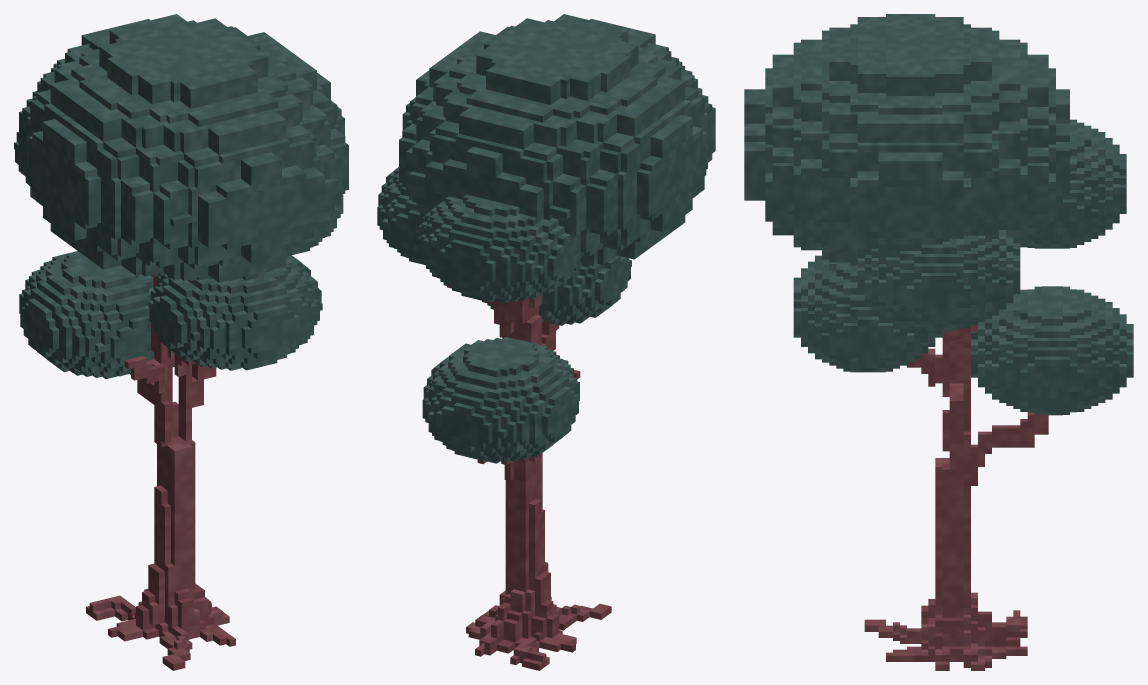
Rendered from Tree_state_1.fbx.
3 views of the same model, side by side, from view 1: azimuth 30°, elevation 25°; view 2: azimuth 150°, elevation 25°; view 3: azimuth 270°, elevation 25° (orthographic). The views are drawn at different scales.
Visible parts, largest first — view 1: Tree_state_1; view 2: Tree_state_1; view 3: Tree_state_1.
Part boxes in pixels (x1,y1,x2,y2): Tree_state_1: (14, 14, 348, 670); Tree_state_1: (377, 14, 715, 670); Tree_state_1: (744, 14, 1133, 670).
Size of the model in its own units: 46 by 93 by 55.
Materials: 1 (1 with a texture image).
